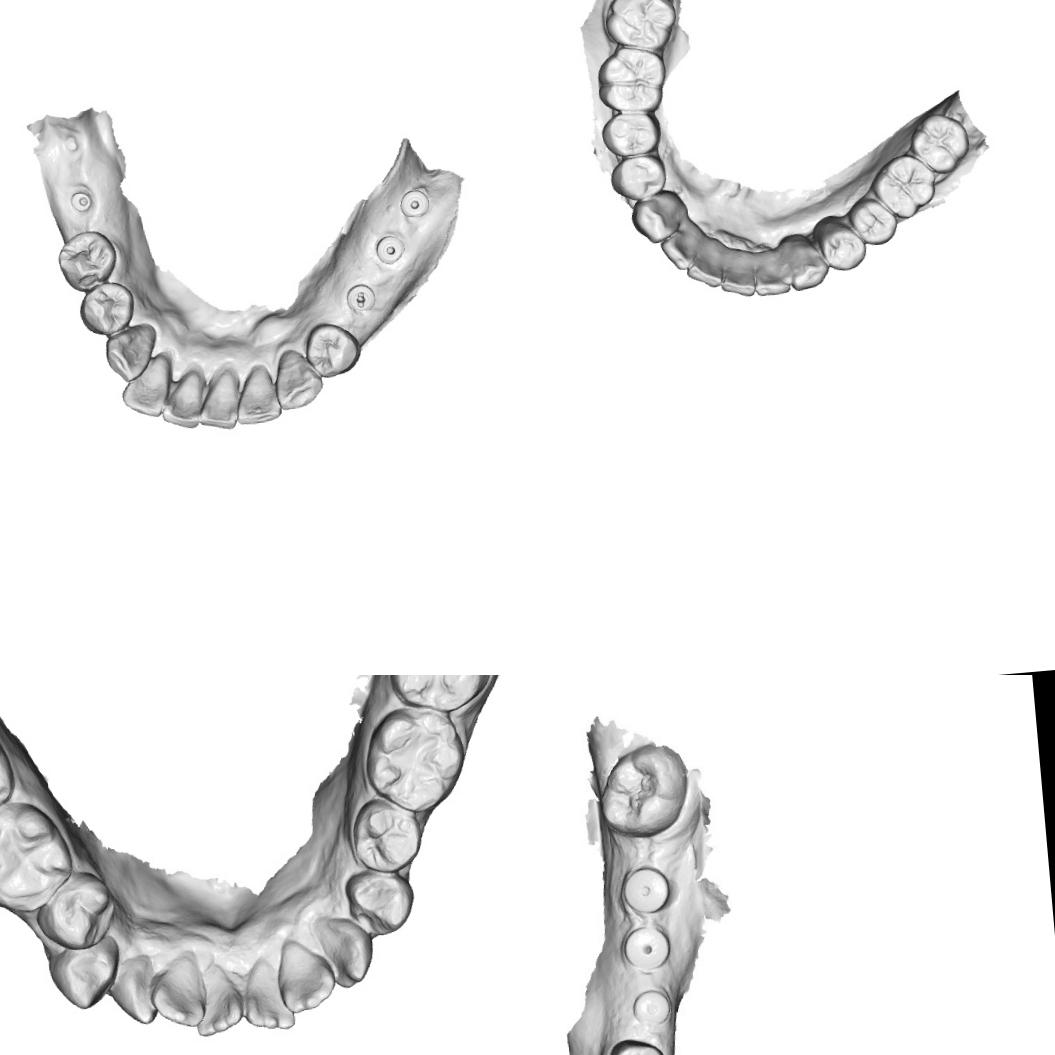canine: (317, 913, 374, 992), (108, 952, 164, 1028), (102, 320, 162, 385), (269, 346, 326, 412), (627, 188, 688, 246), (782, 235, 830, 293)
implant: (620, 862, 678, 918), (619, 918, 674, 977), (625, 984, 679, 1030), (395, 184, 434, 222), (373, 230, 408, 267)
implant_minus: (342, 280, 378, 314)
incisor: (273, 936, 340, 1017), (188, 962, 252, 1038), (236, 958, 298, 1034), (146, 955, 206, 1029), (116, 351, 176, 420), (231, 361, 283, 426), (156, 367, 208, 432), (192, 367, 243, 432), (657, 222, 705, 272), (683, 236, 726, 290), (749, 246, 792, 298), (716, 248, 756, 298)
molar: (360, 704, 470, 816), (591, 742, 697, 844), (0, 802, 72, 916), (593, 42, 669, 115), (866, 150, 939, 222), (904, 109, 972, 177), (600, 0, 680, 57), (383, 675, 494, 713)
premolar: (34, 868, 117, 954), (346, 794, 424, 876), (340, 863, 418, 940), (46, 933, 120, 1012), (54, 227, 120, 296), (300, 318, 364, 380), (76, 278, 138, 340), (598, 109, 666, 160), (606, 152, 670, 202), (814, 214, 868, 273), (844, 194, 900, 248), (603, 1034, 667, 1055)
